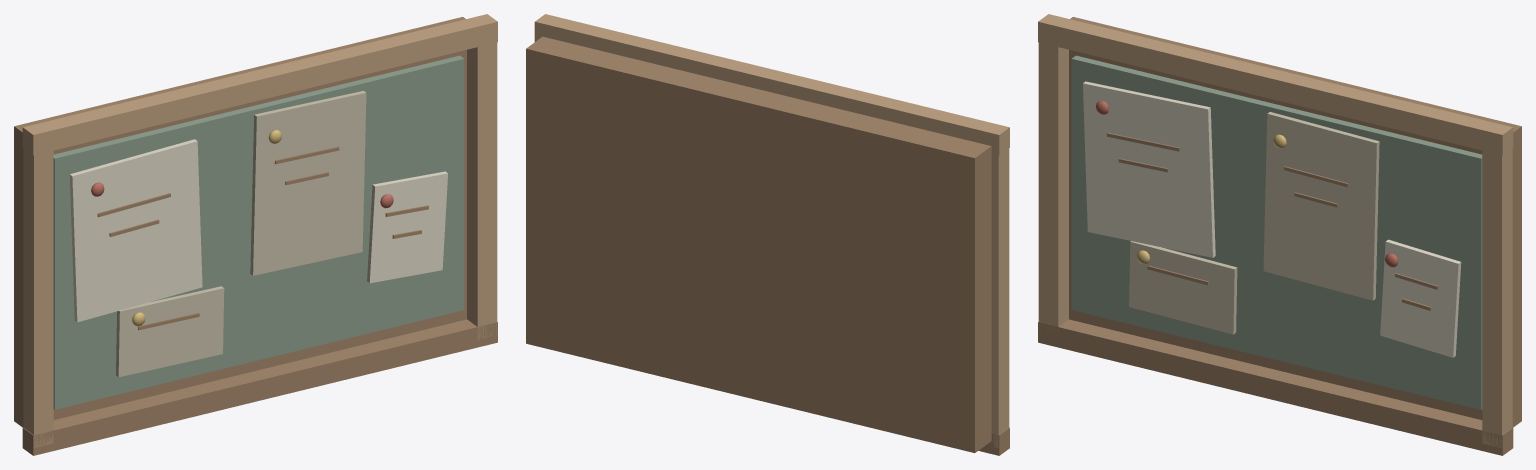
Rendered from corridor_noticeboard.glb.
3 renders of one model, left to right at view 1: azimuth 30°, elevation 25°; view 2: azimuth 150°, elevation 25°; view 3: azimuth 330°, elevation 25°, orthographic.
Parts seen in each view (by area): view 1: Board_cork, Notice_paper_00, Notice_paper_01, Frame_top, Frame_bottom, Board_back, Frame_side, Frame_side.001, Notice_paper_02, Notice_paper_03; view 2: Board_back, Frame_top, Frame_side; view 3: Board_cork, Notice_paper_00, Notice_paper_01, Frame_top, Frame_bottom, Board_back, Frame_side.001, Frame_side, Notice_paper_02, Notice_paper_03.
Boxes of the visible parts, bbox=[...] form: Board_cork: bbox=[53, 55, 464, 409]; Notice_paper_00: bbox=[69, 139, 202, 322]; Notice_paper_01: bbox=[250, 91, 366, 275]; Frame_top: bbox=[22, 14, 497, 155]; Frame_bottom: bbox=[22, 319, 497, 455]; Board_back: bbox=[14, 17, 466, 427]; Frame_side: bbox=[23, 138, 53, 448]; Frame_side.001: bbox=[467, 29, 497, 339]; Notice_paper_02: bbox=[367, 171, 447, 283]; Notice_paper_03: bbox=[116, 286, 224, 377]; Board_back: bbox=[526, 36, 991, 452]; Frame_top: bbox=[534, 14, 1009, 155]; Frame_side: bbox=[979, 137, 1009, 448]; Board_cork: bbox=[1071, 55, 1482, 409]; Notice_paper_00: bbox=[1083, 81, 1215, 257]; Notice_paper_01: bbox=[1263, 112, 1379, 300]; Frame_top: bbox=[1038, 14, 1513, 155]; Frame_bottom: bbox=[1038, 319, 1513, 455]; Board_back: bbox=[1069, 17, 1521, 427]; Frame_side.001: bbox=[1482, 137, 1512, 447]; Frame_side: bbox=[1038, 29, 1068, 339]; Notice_paper_02: bbox=[1380, 239, 1461, 357]; Notice_paper_03: bbox=[1129, 241, 1237, 334].
Size of the model in its own units: 1.78 by 1.18 by 0.194.
